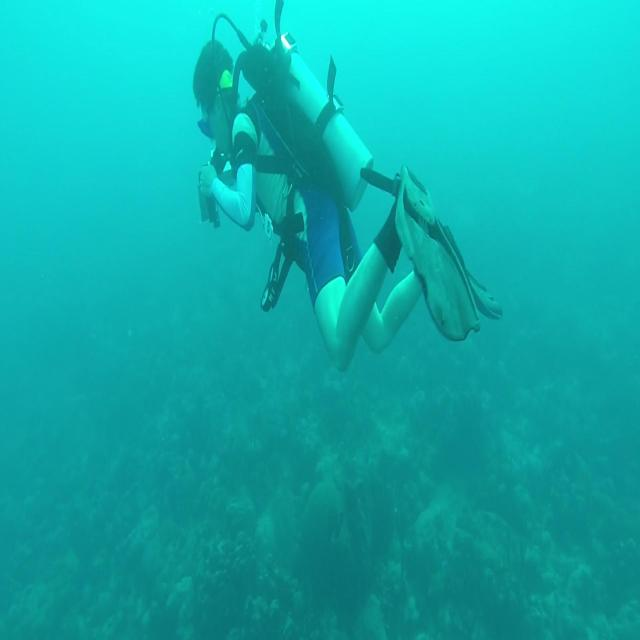human: (193, 12, 502, 361)
